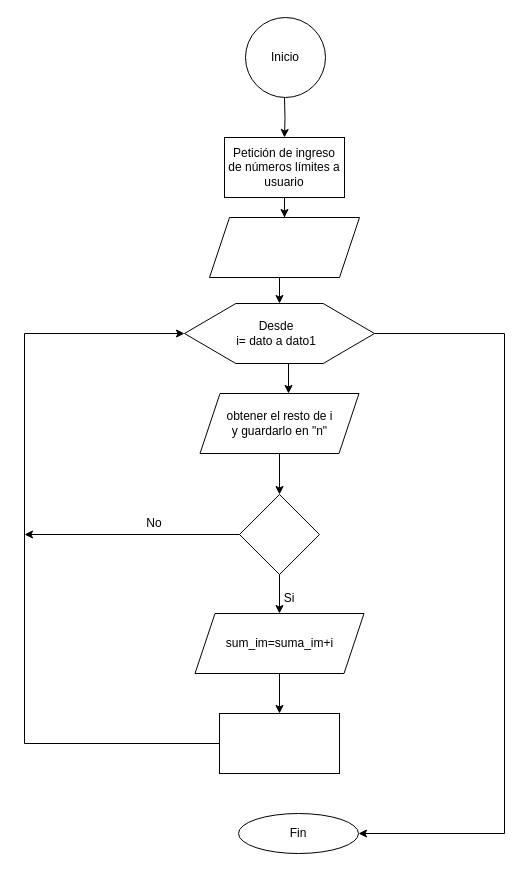
Some shapes in this 530 by 871 pixel diagram are drawn without their labels. Each missing label, with the centre of its shape:
imprimir suma_im: point 279,743
n==1: point 279,534
Números ingresados "dato" y "dato1": point 284,247
